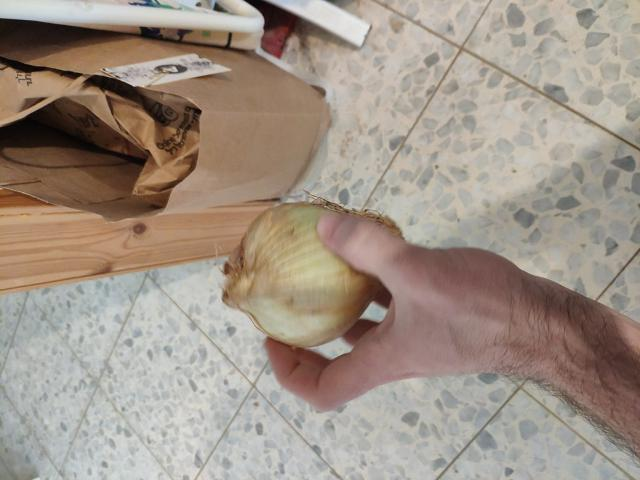onion: (216, 187, 416, 362)
